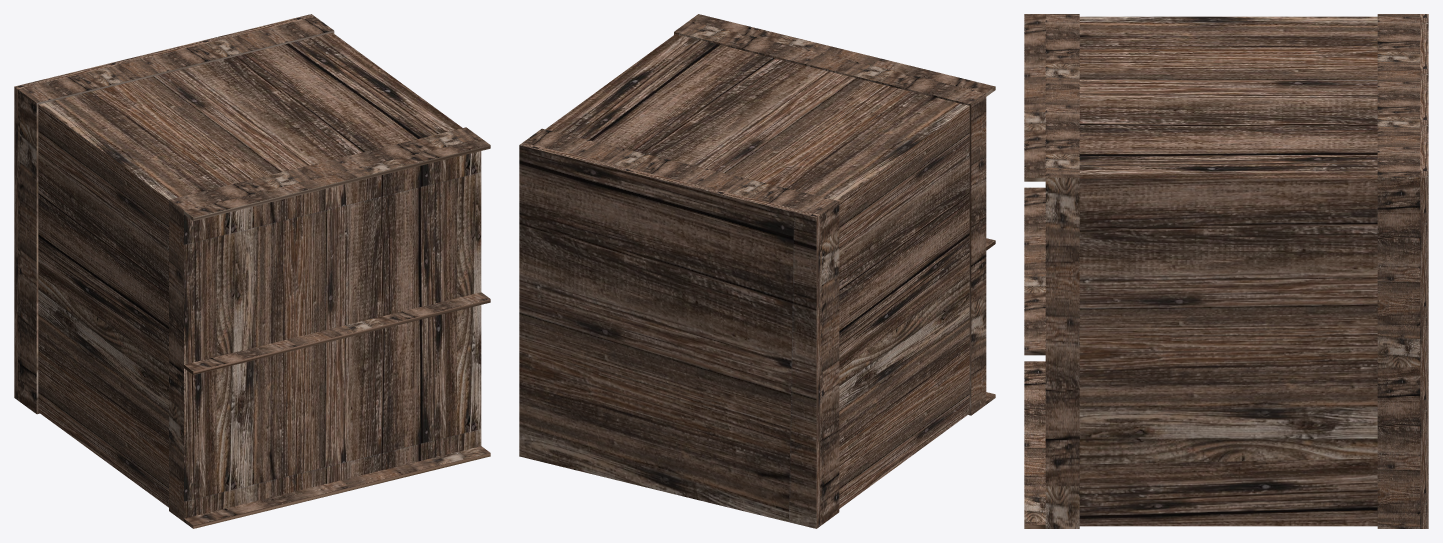
The model's file is cratepickup_complete.fbx.
The picture shows the model from 3 angles, left to right: view 1: azimuth 30°, elevation 25°; view 2: azimuth 150°, elevation 25°; view 3: azimuth 270°, elevation 25°; orthographic projection. The views are drawn at different scales.
Visible parts, largest first — view 1: Cube.001; view 2: Cube.001; view 3: Cube.001.
Part boxes in pixels (<box>): Cube.001: <box>14,14,490,528</box>; Cube.001: <box>519,14,995,528</box>; Cube.001: <box>1024,14,1428,528</box>.
Bounding box in the file's own units: 91 × 91 × 95.
1 material, 1 textured.
